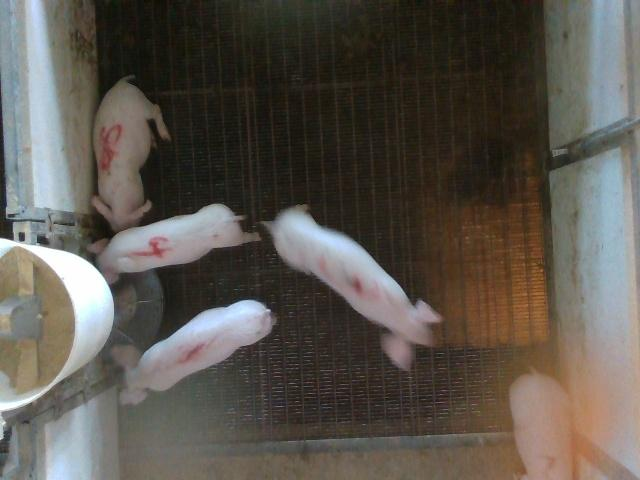pig-1: (112, 300, 275, 405)
pig-3: (264, 205, 441, 369)
pig-4: (90, 204, 260, 283)
pig-5: (92, 75, 171, 232)
